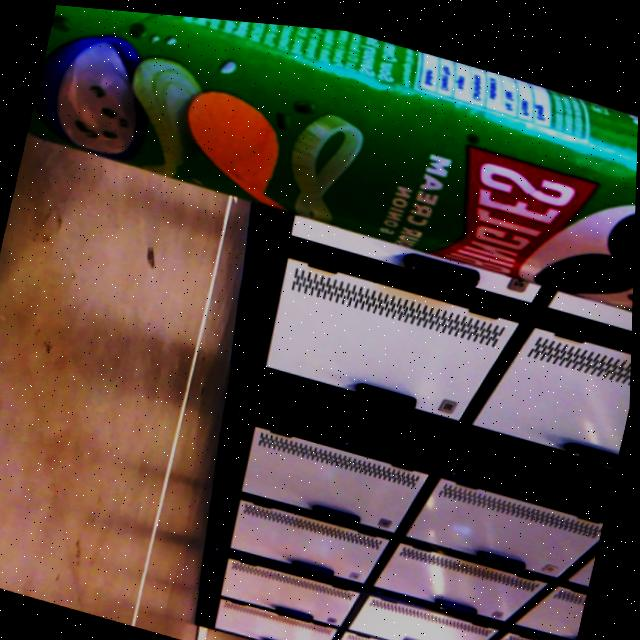greenpringles: (20, 2, 640, 320)
